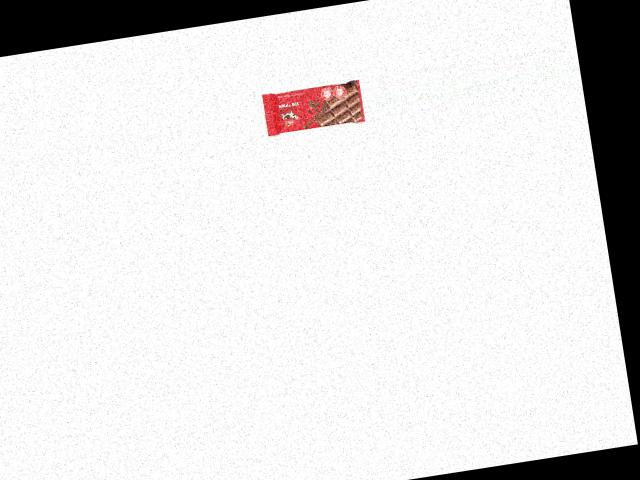chocolate: (259, 79, 365, 136)
